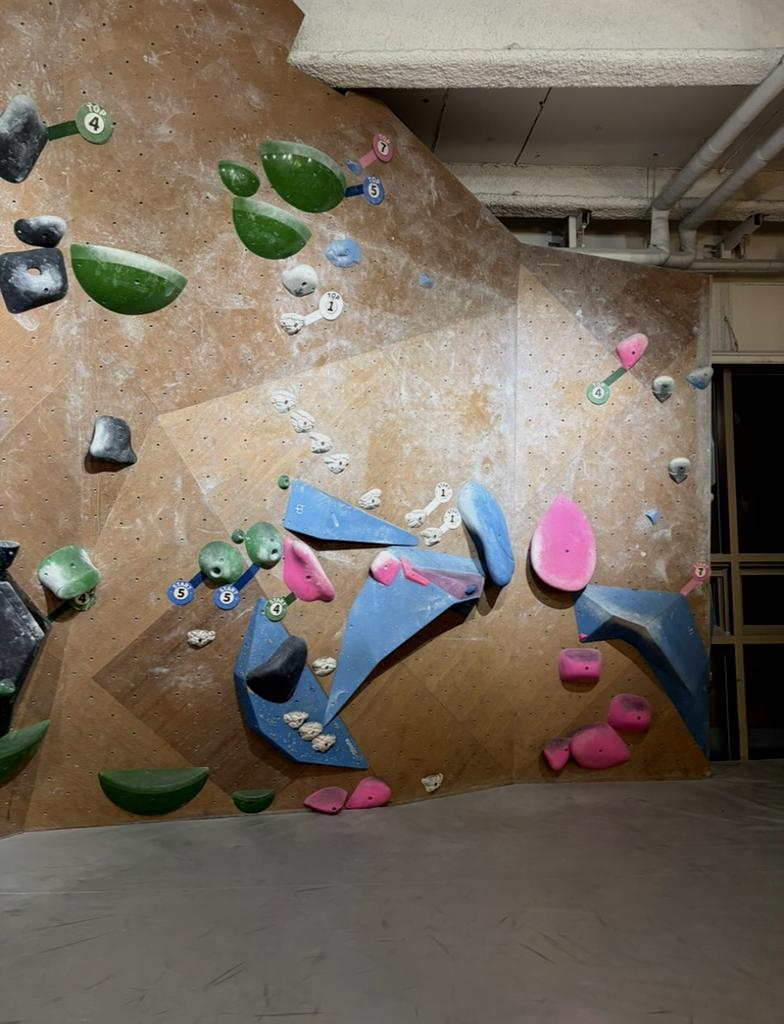crimp: (420, 272, 434, 287), (347, 160, 359, 175)
downhold: (283, 264, 316, 296), (652, 375, 673, 401), (668, 457, 689, 481)
jib: (232, 529, 243, 542), (278, 477, 289, 489)
jug: (0, 96, 47, 182), (39, 545, 100, 599), (283, 539, 334, 601), (14, 215, 65, 246), (616, 333, 647, 369), (371, 550, 398, 585), (687, 366, 713, 389), (270, 390, 295, 412), (359, 488, 381, 510), (281, 313, 304, 334), (290, 409, 311, 432), (311, 656, 336, 675), (187, 630, 214, 647), (404, 510, 429, 528), (310, 432, 332, 452), (421, 528, 446, 545), (325, 454, 347, 473)
ledge: (71, 244, 186, 314), (260, 142, 344, 212), (99, 767, 208, 815), (233, 197, 309, 259), (218, 161, 259, 197), (233, 789, 274, 812)
pocket: (0, 247, 66, 312), (198, 541, 241, 583), (245, 523, 282, 568), (325, 238, 360, 267)
sloper: (572, 723, 629, 767), (557, 645, 601, 685), (607, 694, 651, 731), (304, 787, 347, 813), (543, 739, 570, 770), (606, 750, 607, 751)
tape: (48, 102, 112, 143), (214, 565, 259, 609), (587, 366, 626, 404), (48, 592, 95, 621), (304, 291, 342, 324), (166, 572, 203, 605), (358, 134, 392, 168), (346, 176, 384, 205), (420, 482, 451, 517), (680, 562, 709, 595), (264, 594, 295, 621), (439, 508, 460, 533)
undercling: (531, 495, 594, 591), (457, 482, 514, 587), (89, 416, 135, 465)
volume: (324, 545, 485, 724), (575, 585, 707, 755), (235, 599, 366, 768), (284, 480, 418, 545)
